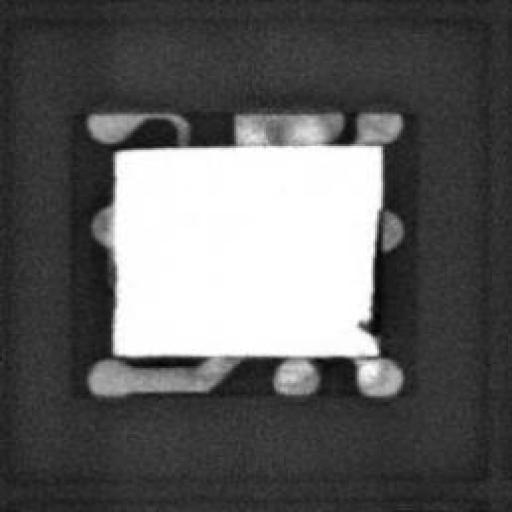DIE_BROKEN: (353, 207, 381, 341)
